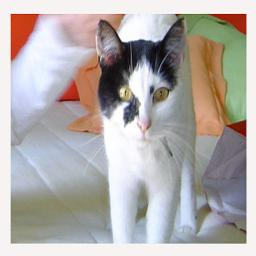catnose: (137, 118, 151, 134)
